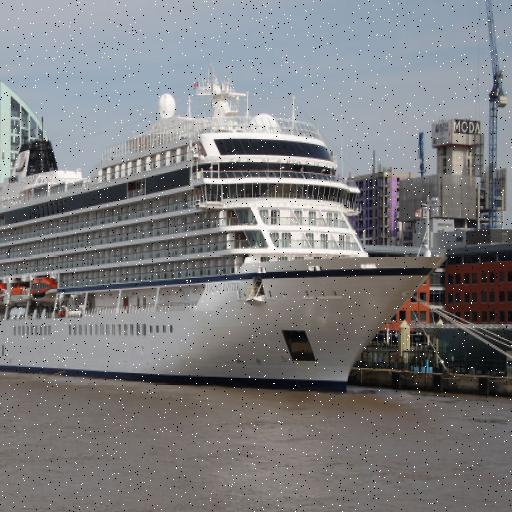cruises: (1, 72, 452, 408)
